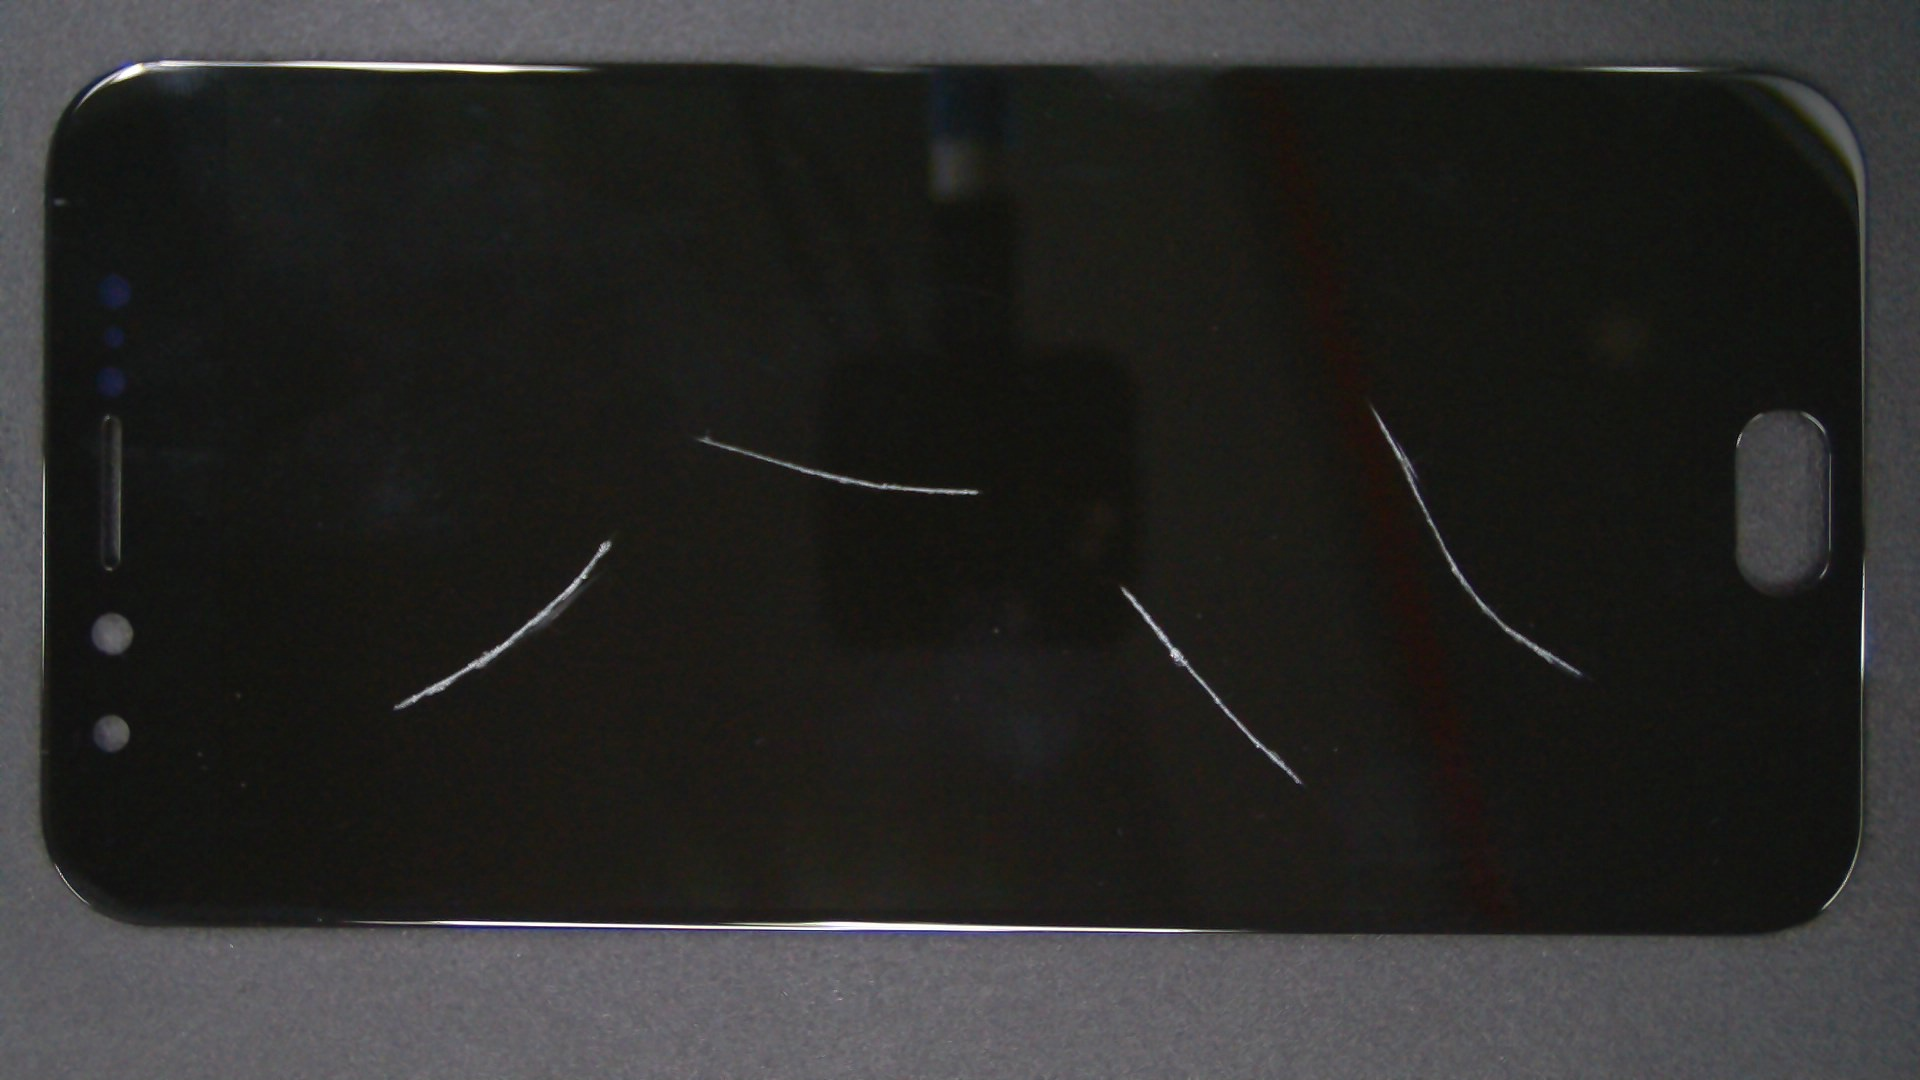oil: (562, 291, 1683, 878), (686, 200, 1920, 608), (305, 269, 910, 808), (353, 218, 1056, 655)
